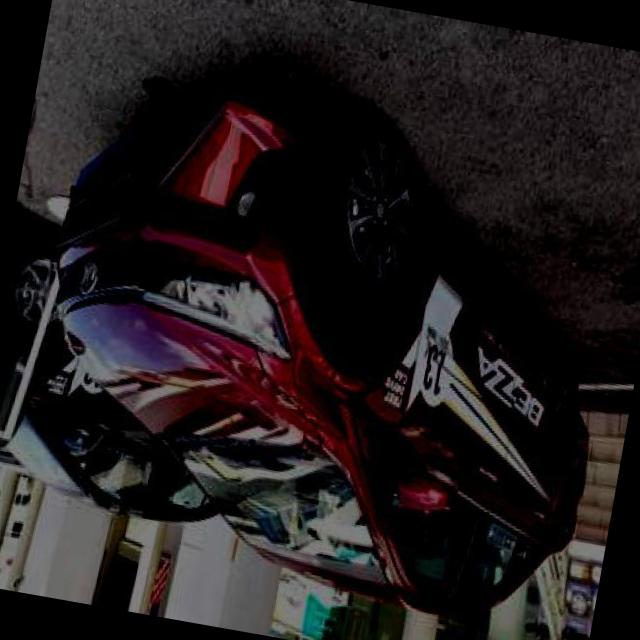PeroduaBezza: (1, 57, 640, 640)
